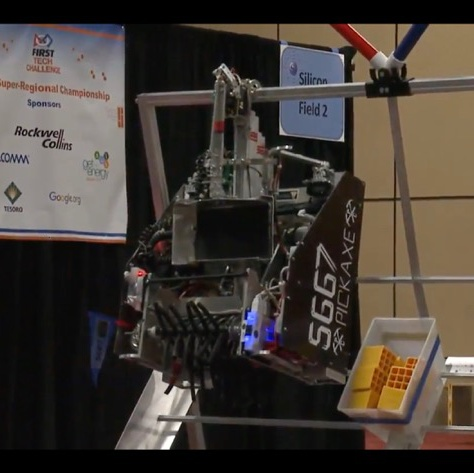robot: (118, 62, 367, 391)
